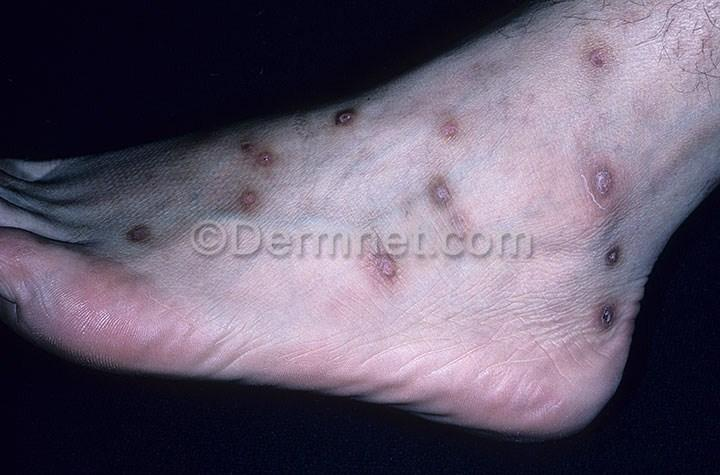Eczema: (567, 150, 632, 209), (108, 214, 175, 262), (357, 240, 416, 293), (419, 157, 463, 218), (234, 136, 292, 180), (575, 298, 629, 339), (579, 37, 623, 84), (597, 230, 635, 276), (326, 105, 369, 141), (434, 113, 476, 147), (233, 182, 268, 214)
